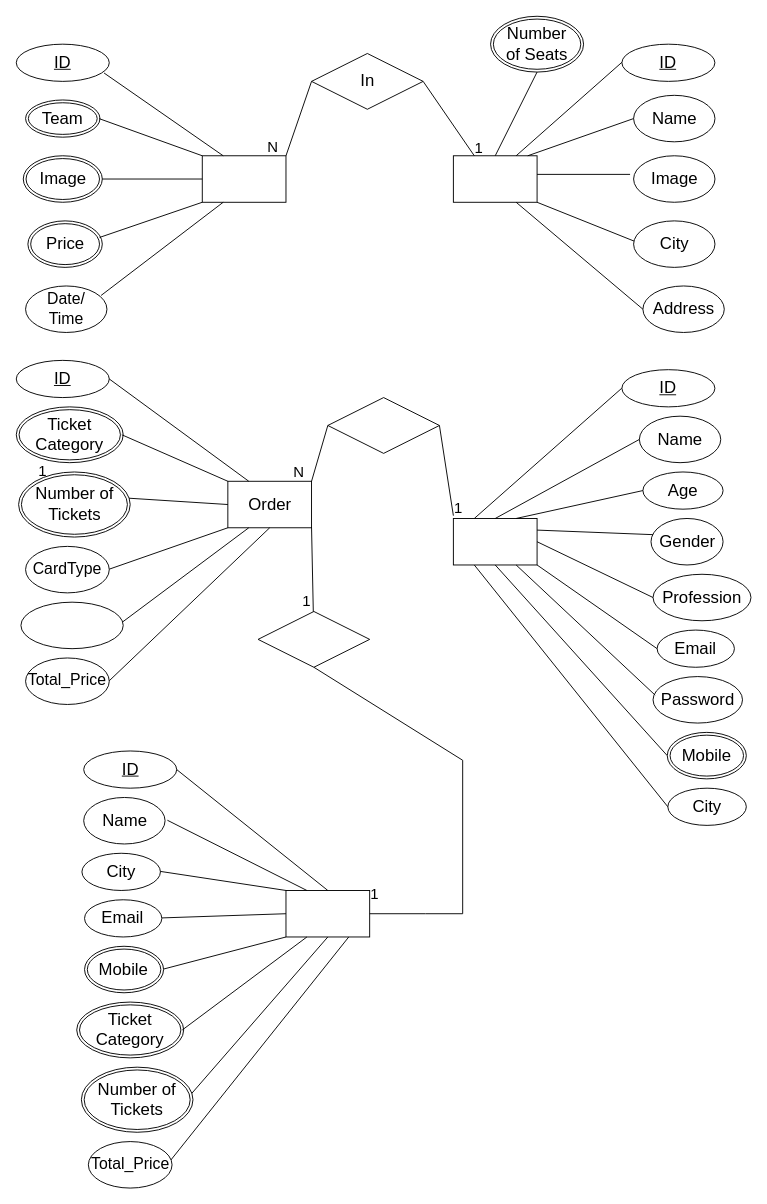
Some shapes in this 767 by 1204 pixel diagram are drawn without their labels. Each missing label, with the centre of its shape:
CardNumber: point 71,625
Creat: point 383,425
Has: point 313,639
Match: point 243,178
Order Details: point 327,913
Stadium: point 494,178
User: point 494,541
